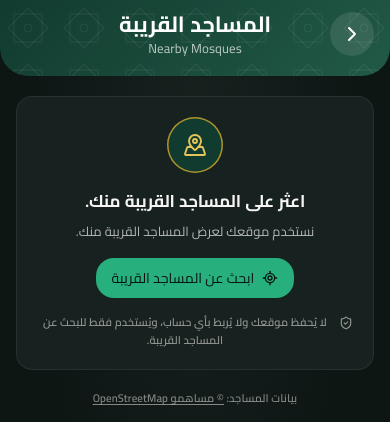
Test: Nearby Mosques — permission and location states › refusing the system prompt shows the denied state
This screenshot has width=390, height=422.
Click the button with test id "mosques-start": (195, 278) x1=96 y1=258 x2=294 y2=298
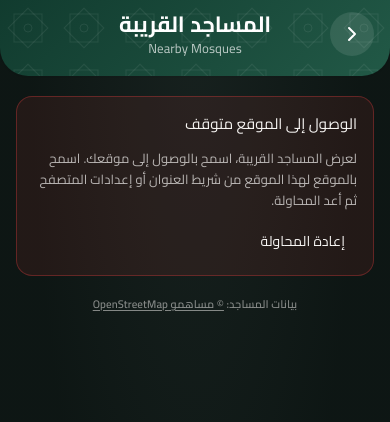
Check: the element with test id "mosques-denied" is shown, box x1=16 y1=96 x2=374 y2=276
